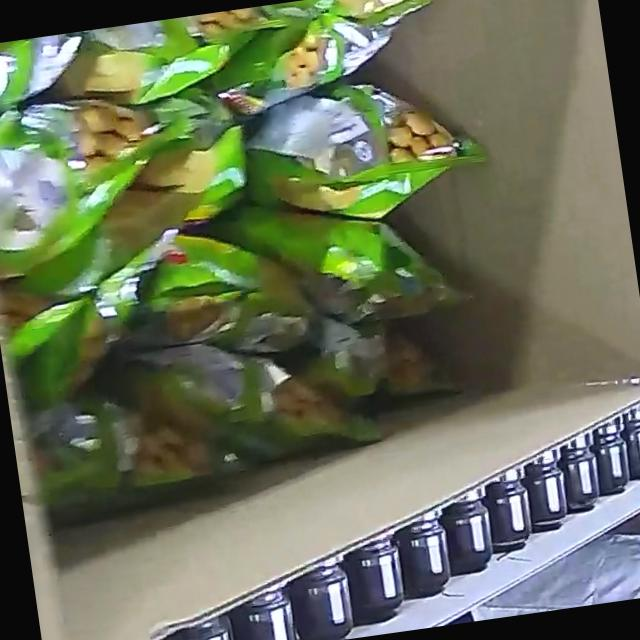yogurt: (0, 0, 530, 516)
